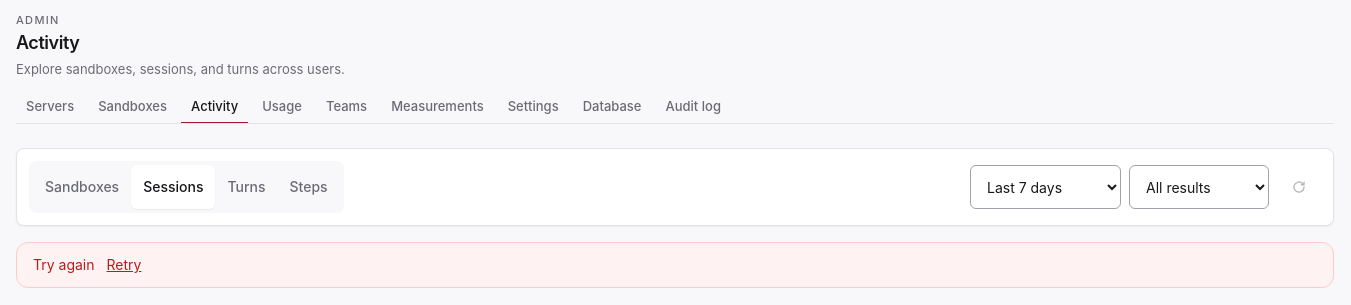
Test: session navigation › shows empty results and recovers a failed initial request on retry
Expected: the message "Try again Retry" is shown, x1=16 y1=242 x2=1334 y2=288
Click the button "Retry" at (124, 265), box x1=106 y1=255 x2=141 y2=275
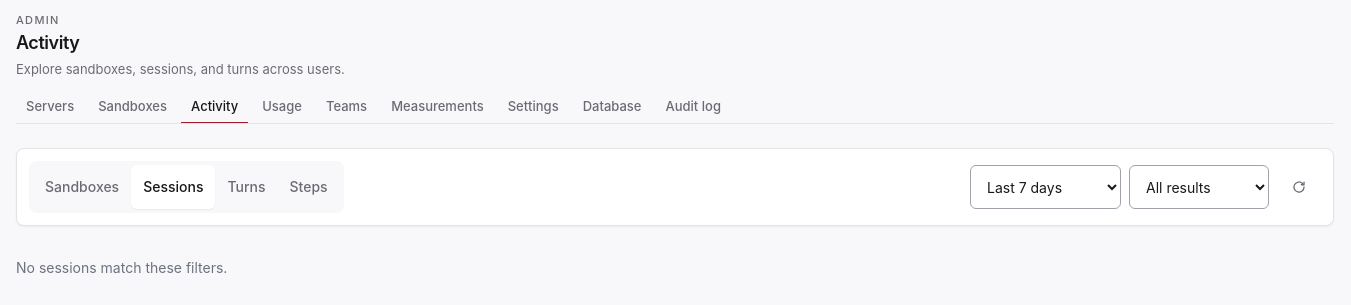
Now the text "No sessions match these filters." is shown, box x1=16 y1=259 x2=227 y2=276
